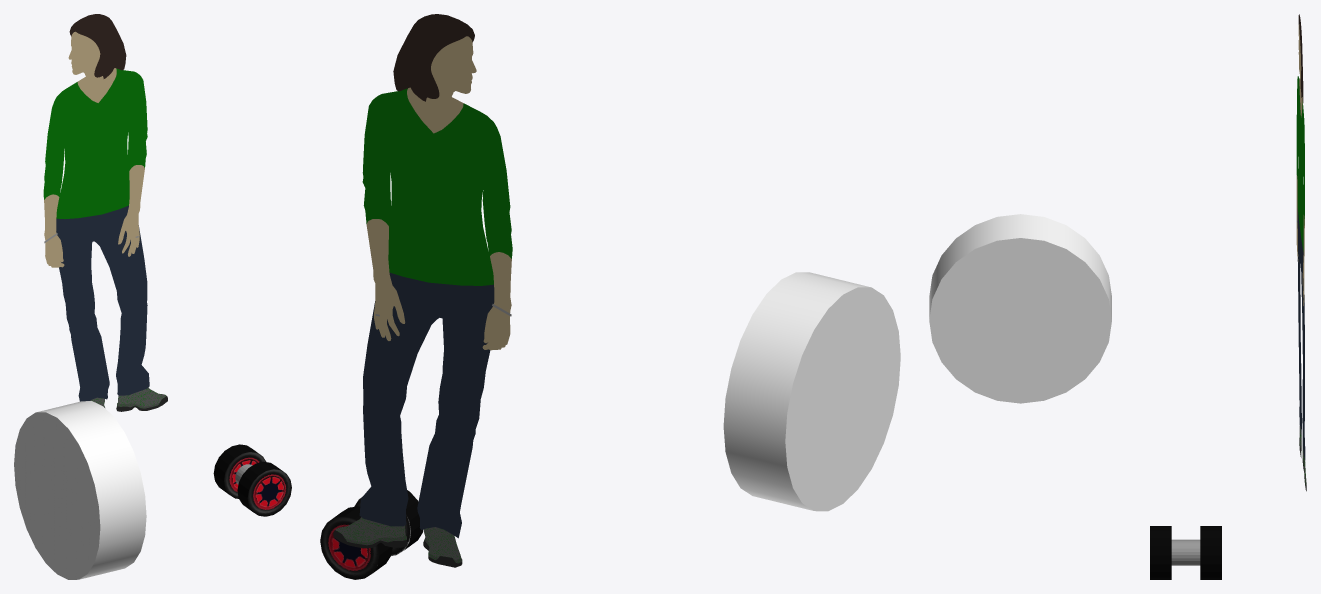
Rendered from rotatingWheel2.dae.
3 views of the same model, side by side, from view 1: azimuth 30°, elevation 25°; view 2: azimuth 150°, elevation 25°; view 3: azimuth 270°, elevation 25° (orthographic). The views are drawn at different scales.
Visible parts, largest first — view 1: Susan (×8), SketchUp, group_0 (×4); view 2: Susan (×9), SketchUp, group_0; view 3: SketchUp, group_0 (×3), Susan (×2).
Part boxes in pixels (x1,y1,x2,y2): Susan (×8): (43,14,166,406); SketchUp: (14,401,146,579); group_0 (×4): (213,444,291,516); Susan (×9): (335,14,512,559); SketchUp: (723,272,900,511); group_0: (320,516,379,579); SketchUp: (929,214,1111,403); group_0 (×3): (1150,526,1221,579); Susan (×2): (1296,76,1305,460).
Size of the model in its own units: 50.06 by 52.28 by 76.84.
14 materials, 1 textured.
